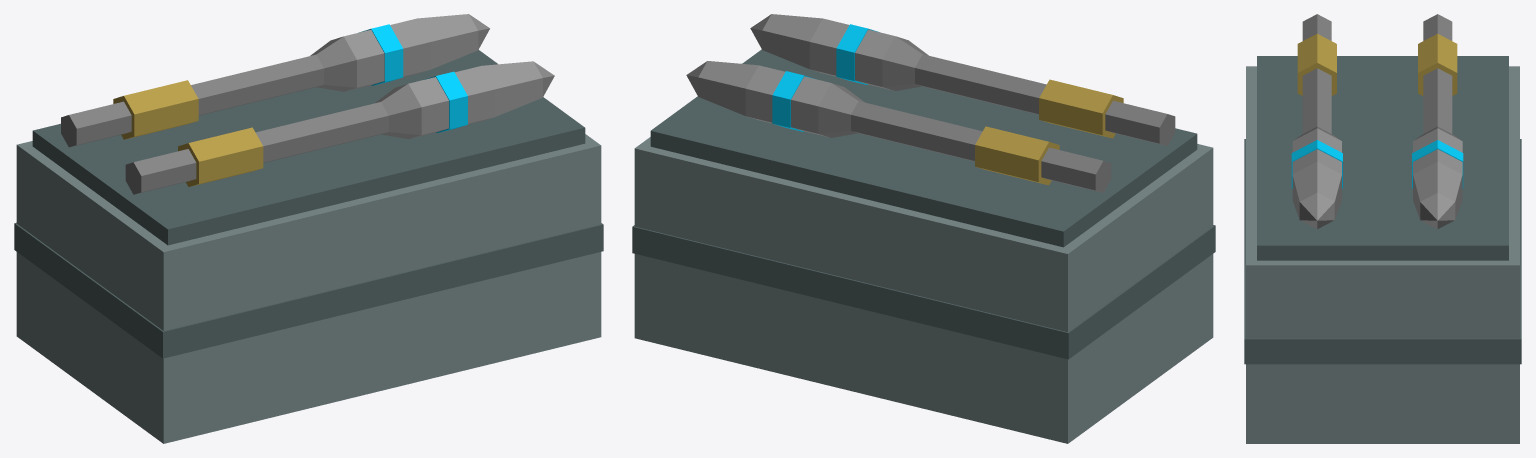
Rendered from ce_ammo2_spg9_emp_c.obj.
3 views of the same model, side by side, from view 1: azimuth 30°, elevation 25°; view 2: azimuth 150°, elevation 25°; view 3: azimuth 270°, elevation 25° (orthographic). The views are drawn at different scales.
Parts seen in each view (by area): view 1: ce_ammo2_spg9_emp_c_0, ce_ammo2_spg9_emp_c_1, ce_ammo2_spg9_emp_c_2, ce_ammo2_spg9_emp_c_5, ce_ammo2_spg9_emp_c_14, ce_ammo2_spg9_emp_c_4, ce_ammo2_spg9_emp_c_13, ce_ammo2_spg9_emp_c_10, ce_ammo2_spg9_emp_c_19, ce_ammo2_spg9_emp_c_12, ce_ammo2_spg9_emp_c_3, ce_ammo2_spg9_emp_c_15 (+7 smaller); view 2: ce_ammo2_spg9_emp_c_0, ce_ammo2_spg9_emp_c_1, ce_ammo2_spg9_emp_c_2, ce_ammo2_spg9_emp_c_5, ce_ammo2_spg9_emp_c_14, ce_ammo2_spg9_emp_c_4, ce_ammo2_spg9_emp_c_13, ce_ammo2_spg9_emp_c_10, ce_ammo2_spg9_emp_c_19, ce_ammo2_spg9_emp_c_3, ce_ammo2_spg9_emp_c_12, ce_ammo2_spg9_emp_c_6 (+7 smaller); view 3: ce_ammo2_spg9_emp_c_0, ce_ammo2_spg9_emp_c_1, ce_ammo2_spg9_emp_c_2, ce_ammo2_spg9_emp_c_5, ce_ammo2_spg9_emp_c_14, ce_ammo2_spg9_emp_c_10, ce_ammo2_spg9_emp_c_19, ce_ammo2_spg9_emp_c_4, ce_ammo2_spg9_emp_c_13, ce_ammo2_spg9_emp_c_11, ce_ammo2_spg9_emp_c_20, ce_ammo2_spg9_emp_c_9 (+7 smaller).
Part boxes in pixels (x1,y1,x2,y2): ce_ammo2_spg9_emp_c_0: (16,134,601,443); ce_ammo2_spg9_emp_c_1: (32,50,585,245); ce_ammo2_spg9_emp_c_2: (14,222,603,358); ce_ammo2_spg9_emp_c_5: (191,54,323,115); ce_ammo2_spg9_emp_c_14: (255,102,388,162); ce_ammo2_spg9_emp_c_4: (113,80,198,139); ce_ammo2_spg9_emp_c_13: (178,127,263,186); ce_ammo2_spg9_emp_c_10: (417,14,478,69); ce_ammo2_spg9_emp_c_19: (482,61,542,116); ce_ammo2_spg9_emp_c_12: (125,149,196,194); ce_ammo2_spg9_emp_c_3: (61,101,131,147); ce_ammo2_spg9_emp_c_15: (375,84,421,139); ce_ammo2_spg9_emp_c_0: (634,137,1213,443); ce_ammo2_spg9_emp_c_1: (650,49,1197,247); ce_ammo2_spg9_emp_c_2: (632,225,1215,359); ce_ammo2_spg9_emp_c_5: (851,101,982,161); ce_ammo2_spg9_emp_c_14: (915,54,1046,114); ce_ammo2_spg9_emp_c_4: (975,126,1059,185); ce_ammo2_spg9_emp_c_13: (1039,79,1123,138); ce_ammo2_spg9_emp_c_10: (698,61,758,115); ce_ammo2_spg9_emp_c_19: (762,14,822,68); ce_ammo2_spg9_emp_c_3: (1041,147,1111,192); ce_ammo2_spg9_emp_c_12: (1105,100,1175,145); ce_ammo2_spg9_emp_c_6: (818,83,864,137); ce_ammo2_spg9_emp_c_0: (1246,66,1519,443); ce_ammo2_spg9_emp_c_1: (1257,56,1508,260); ce_ammo2_spg9_emp_c_2: (1244,139,1521,364); ce_ammo2_spg9_emp_c_5: (1423,68,1452,133); ce_ammo2_spg9_emp_c_14: (1302,68,1331,133); ce_ammo2_spg9_emp_c_10: (1413,161,1462,219); ce_ammo2_spg9_emp_c_19: (1292,161,1341,219); ce_ammo2_spg9_emp_c_4: (1418,33,1457,95); ce_ammo2_spg9_emp_c_13: (1297,33,1336,95); ce_ammo2_spg9_emp_c_11: (1420,193,1455,229); ce_ammo2_spg9_emp_c_20: (1299,193,1334,229); ce_ammo2_spg9_emp_c_9: (1413,149,1462,174).
Bounding box in the file's own units: 0.866 × 0.4962 × 0.506.
